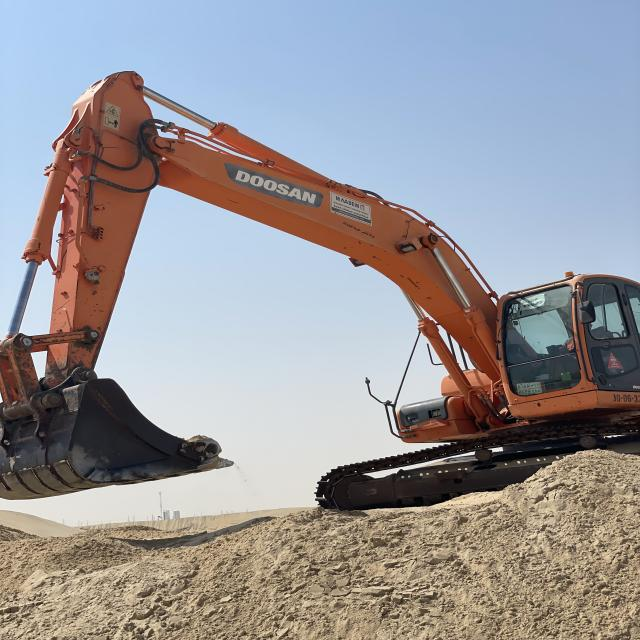Excavator: (2, 67, 638, 516)
